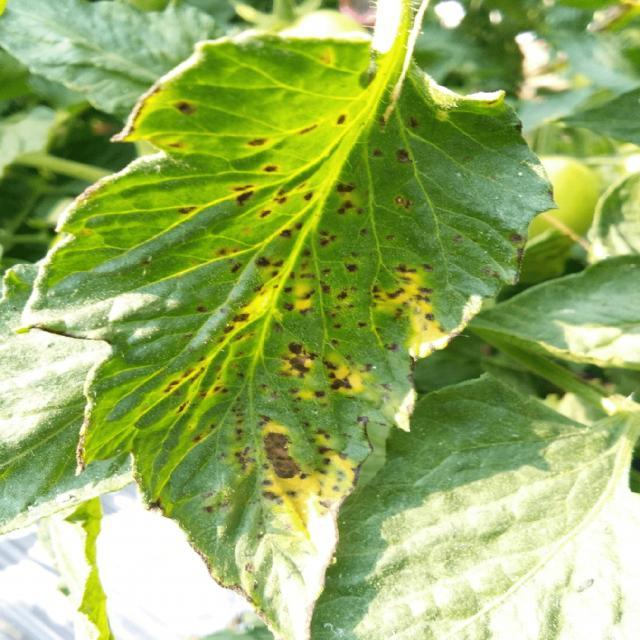Tomato bacterial spot leaf: (12, 24, 560, 640)
